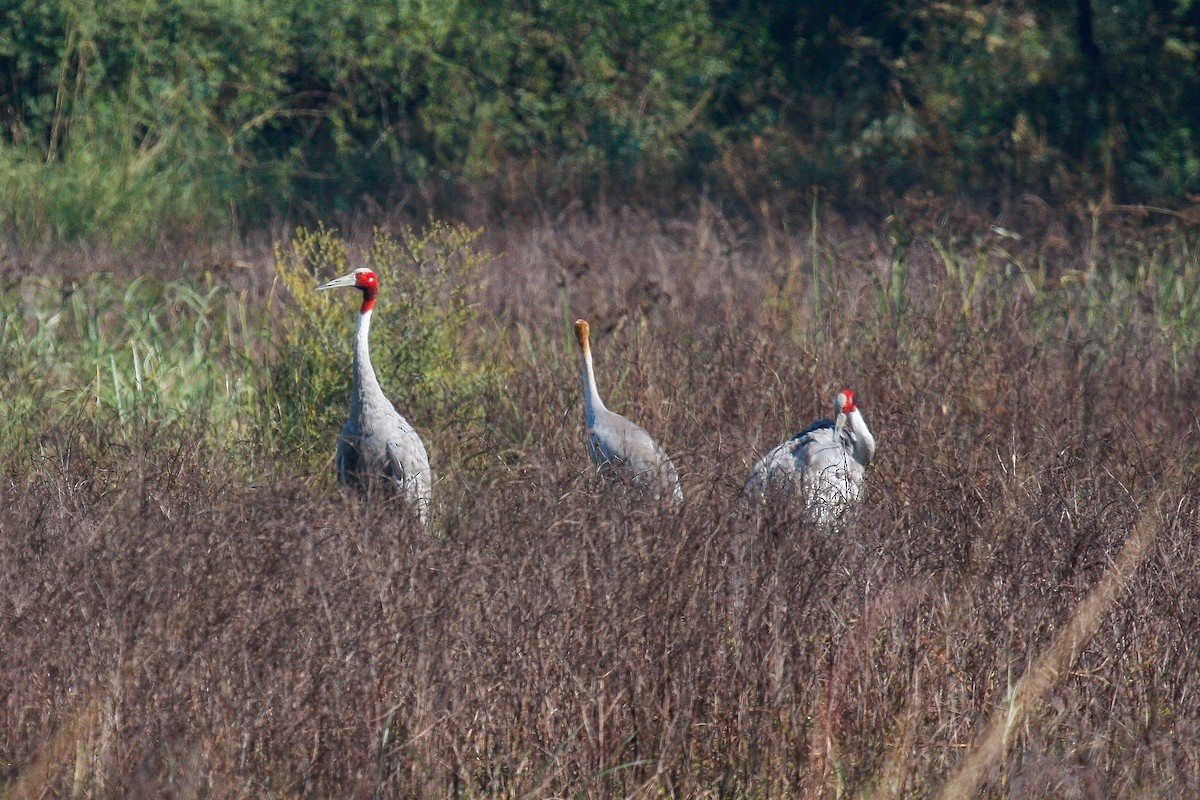crane: (314, 263, 440, 526), (569, 315, 687, 518), (746, 384, 881, 539)
